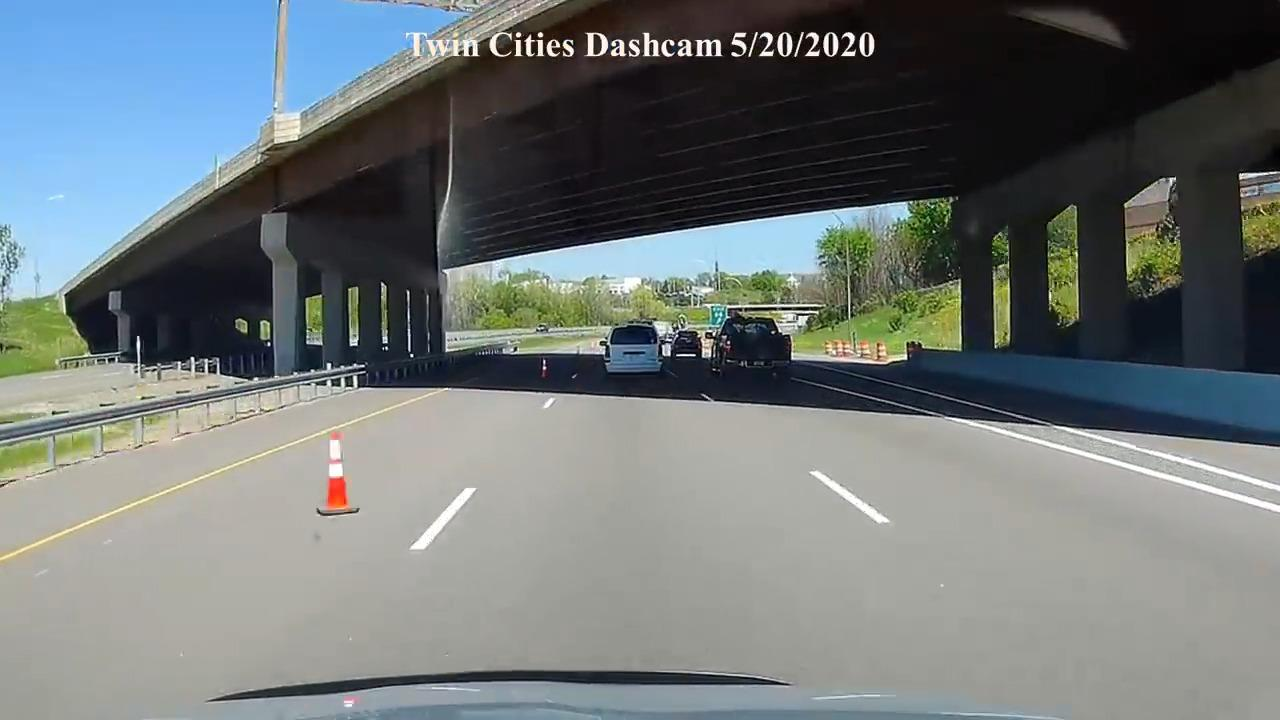car: (708, 312, 793, 379), (601, 322, 663, 376), (670, 329, 702, 358)
traffic cone: (317, 429, 359, 517)
